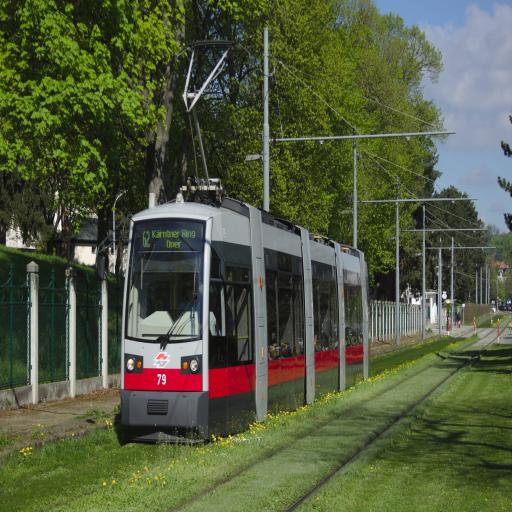ULF: (116, 190, 370, 438)
